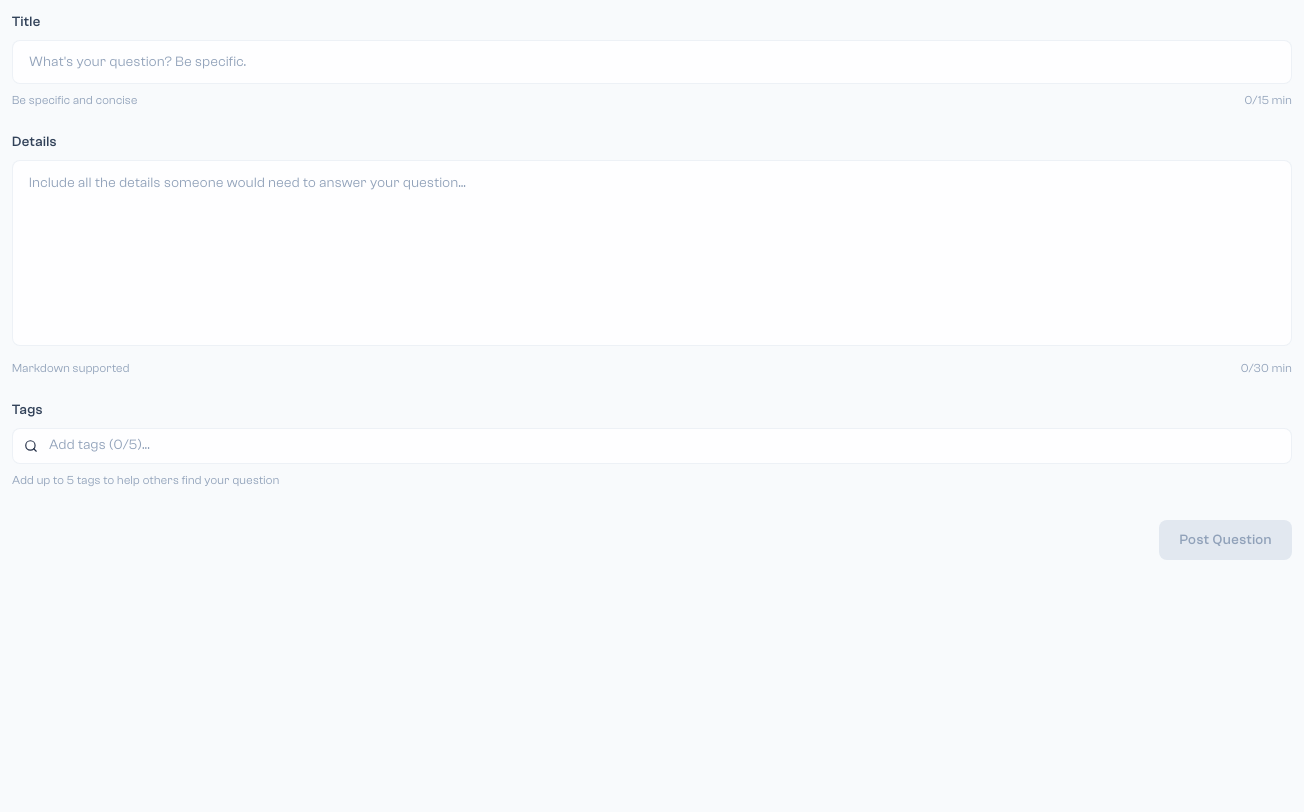
it: AskQuestionForm › submit button state › is enabled when form is valid
Type "This is a valid title here" into the field labelled "Title" at [652, 62], box [12,40,1292,84]
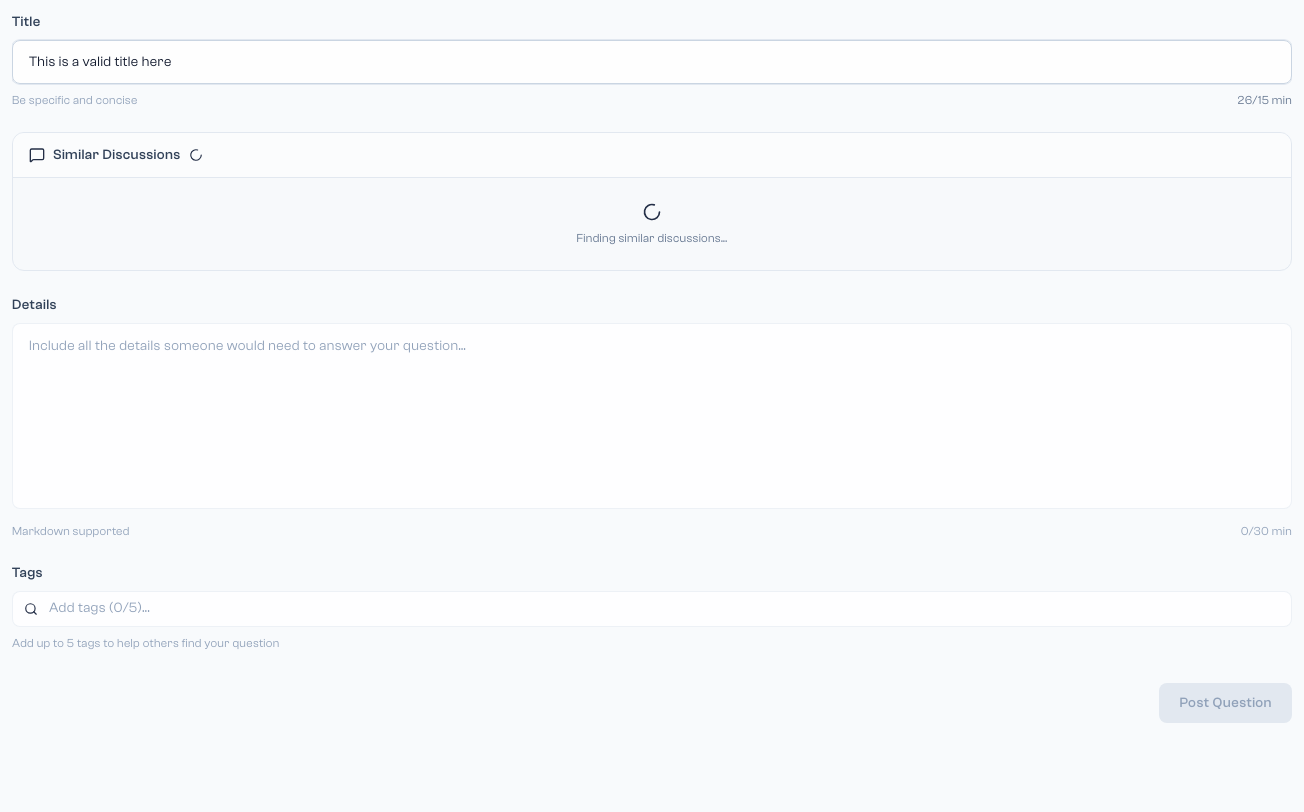
Type "This is a valid body with more than 30 characters for testing purposes." into the text box labelled "Details" at [652, 416], box [12,323,1292,509]
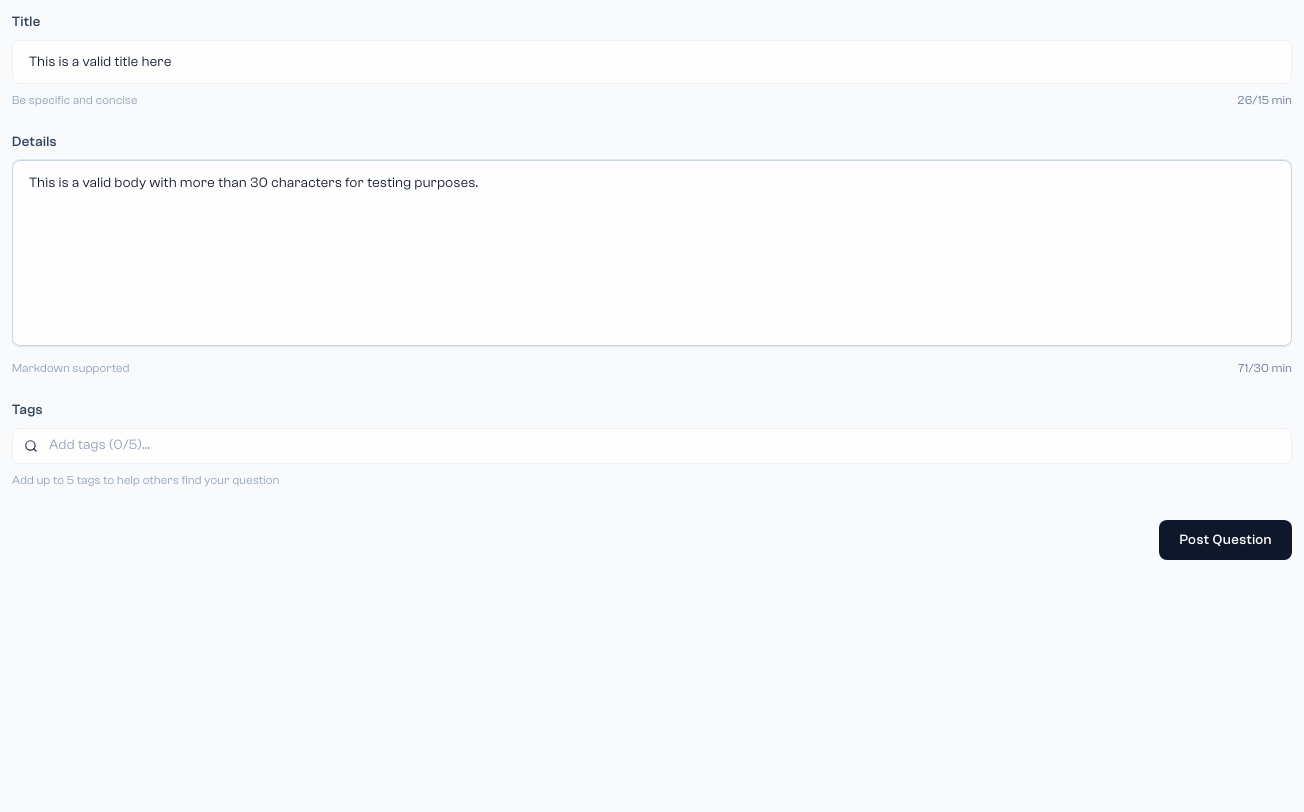
Now the button "Post Question" is enabled, box [1159,520,1292,560]
